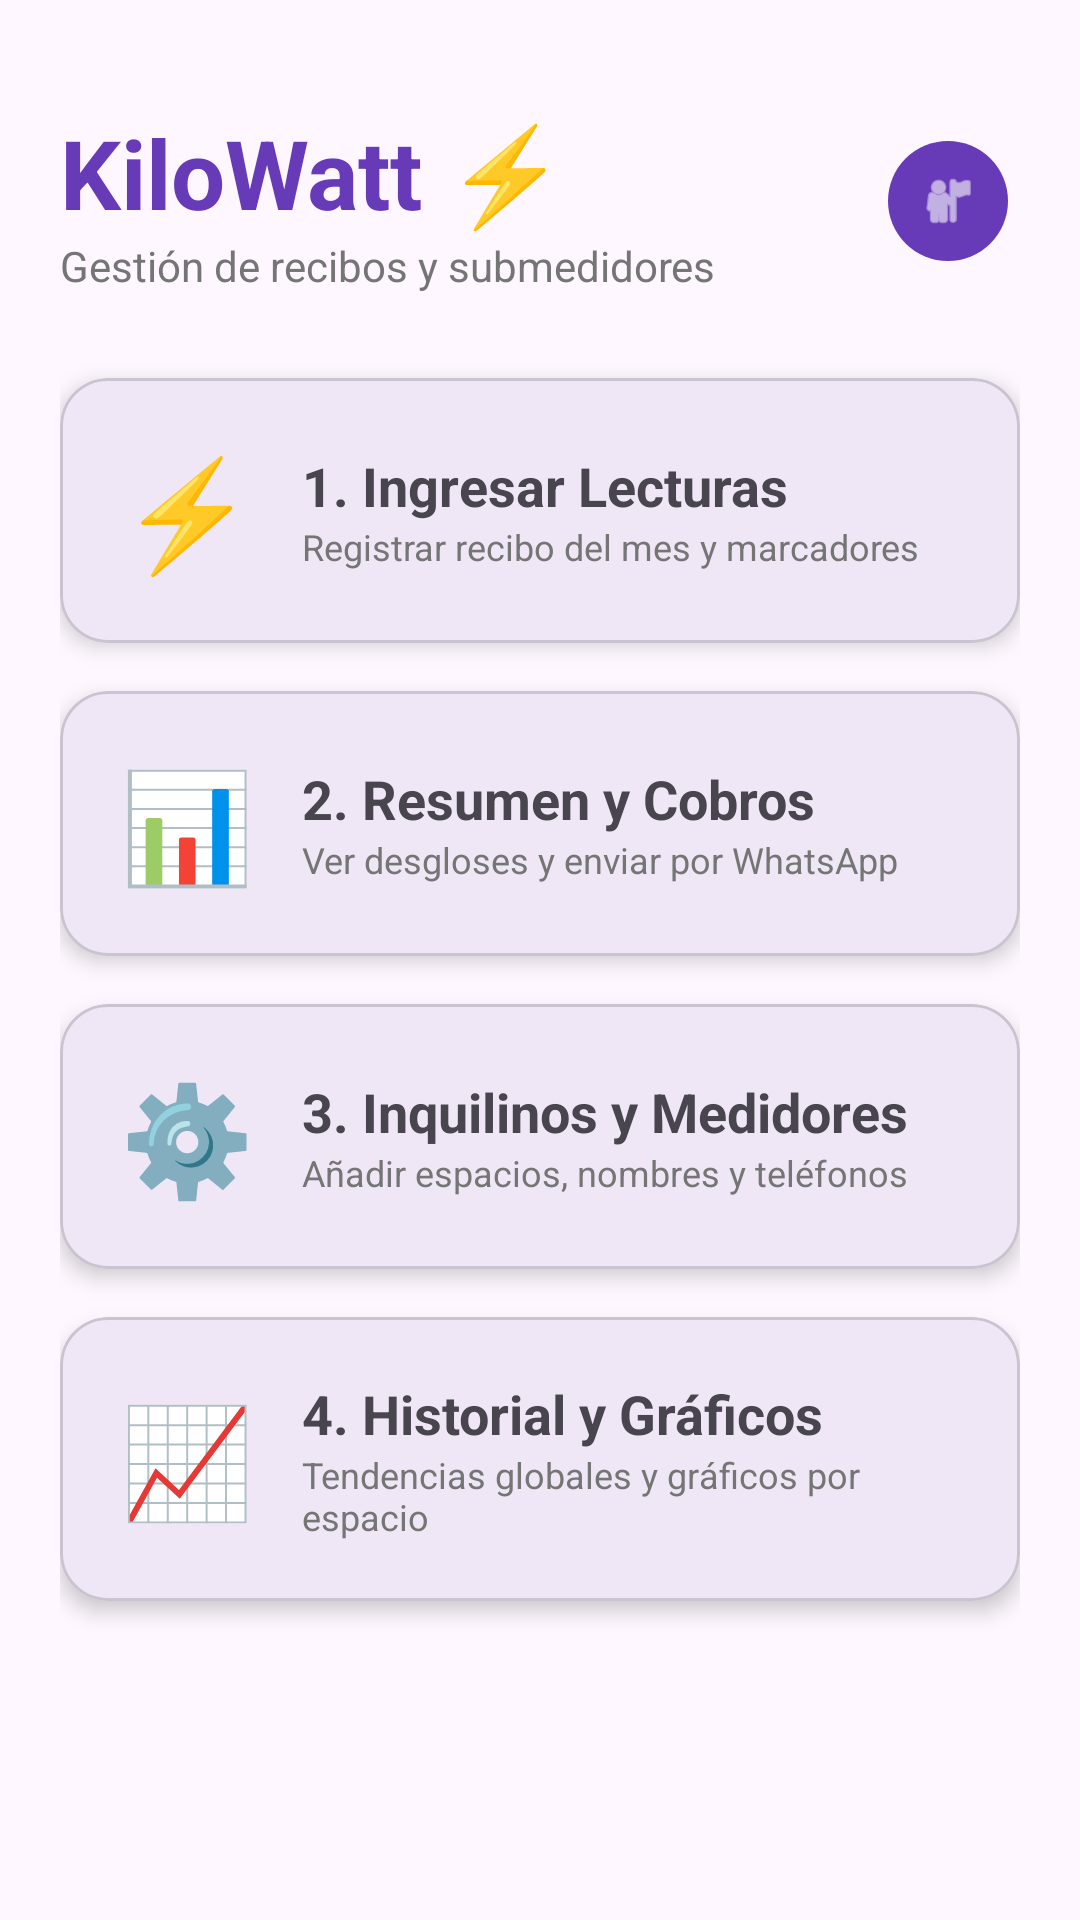

Icons on this 1080w x 1920h Android screen, each with its box as [left=x1, top=y1, right=x2, bottom=y2]:
myplaces: [left=888, top=141, right=1008, bottom=261]
